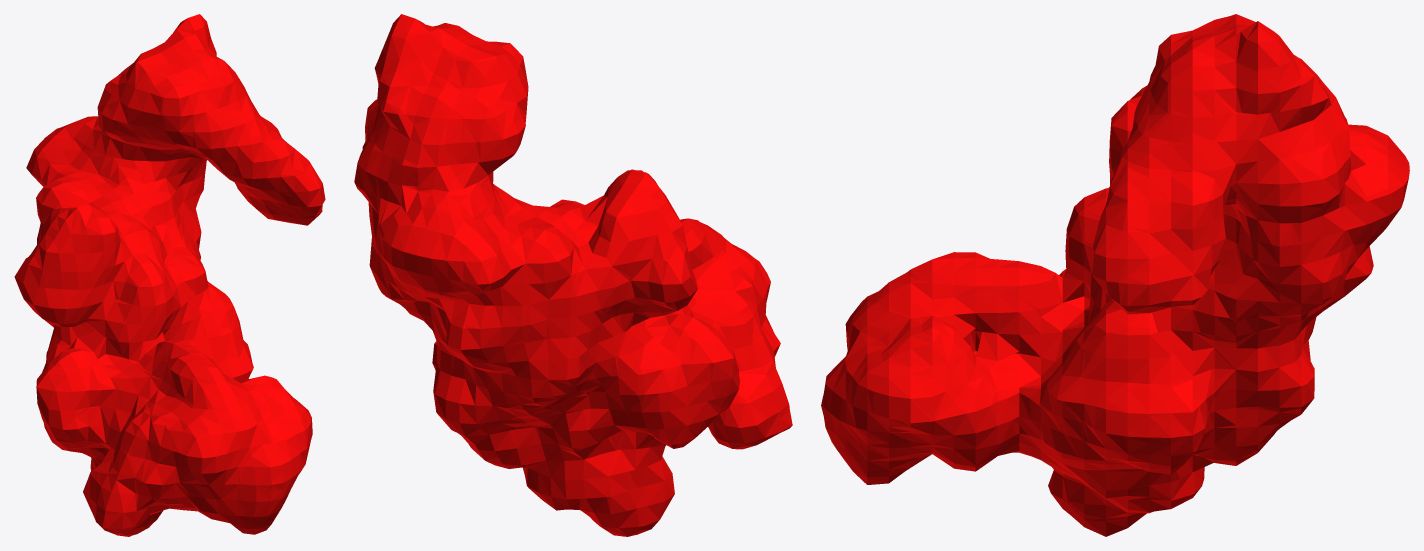
The model's file is valS_coarse.dae.
3 renders of one model, left to right at view 1: azimuth 30°, elevation 25°; view 2: azimuth 150°, elevation 25°; view 3: azimuth 270°, elevation 25°, orthographic. The views are drawn at different scales.
Visible parts, largest first — view 1: valS; view 2: valS; view 3: valS.
Boxes of the visible parts, x1,y1,x2,y2 form: valS: (14,14,325,536); valS: (354,14,792,536); valS: (821,14,1409,536).
Size of the model in its own units: 83.71 by 122 by 110.
